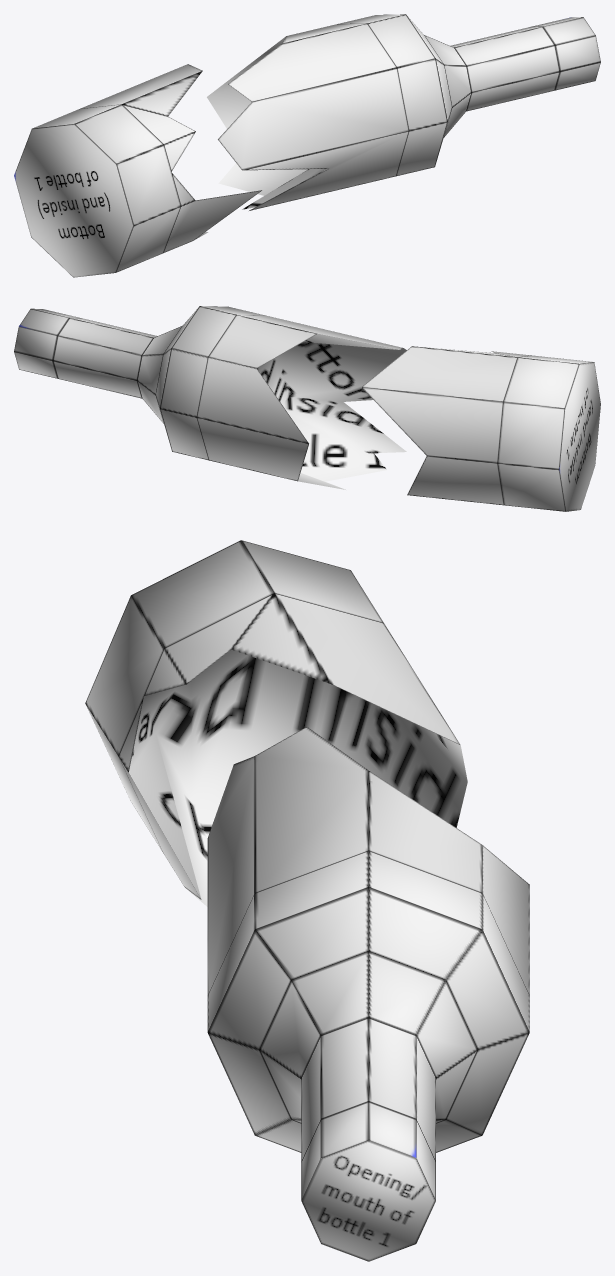
File: Bottle01.fbx
3 renders of one model, top to bottom at view 1: azimuth 30°, elevation 25°; view 2: azimuth 150°, elevation 25°; view 3: azimuth 270°, elevation 25°, orthographic. The views are drawn at different scales.
Parts seen in each view (by area): view 1: Bottle_01; view 2: Bottle_01; view 3: Bottle_01.
Part boxes in pixels (x1,y1,x2,y2): Bottle_01: (14,14,600,277); Bottle_01: (14,306,600,511); Bottle_01: (85,540,529,1261).
Bounding box in the file's own units: 31.72 × 8.47 × 11.4.
1 material, 1 textured.
